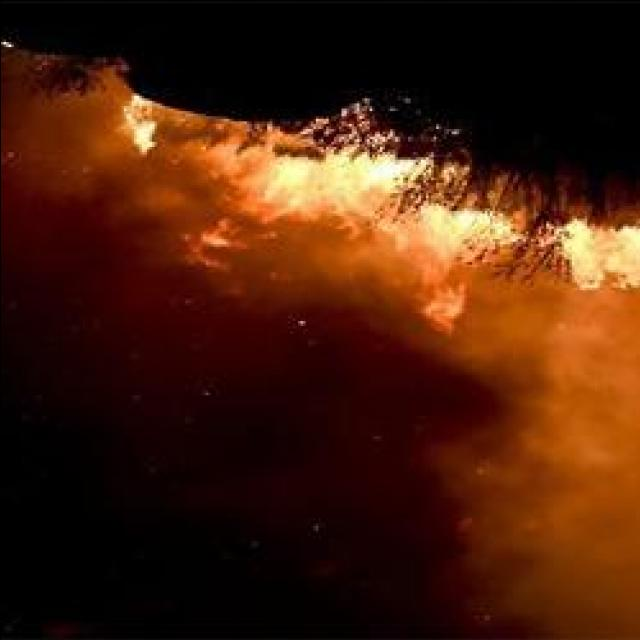fire: (220, 144, 437, 224), (566, 228, 640, 292), (122, 90, 160, 162)
smoke: (468, 297, 640, 625), (113, 233, 380, 311), (1, 56, 127, 212)
